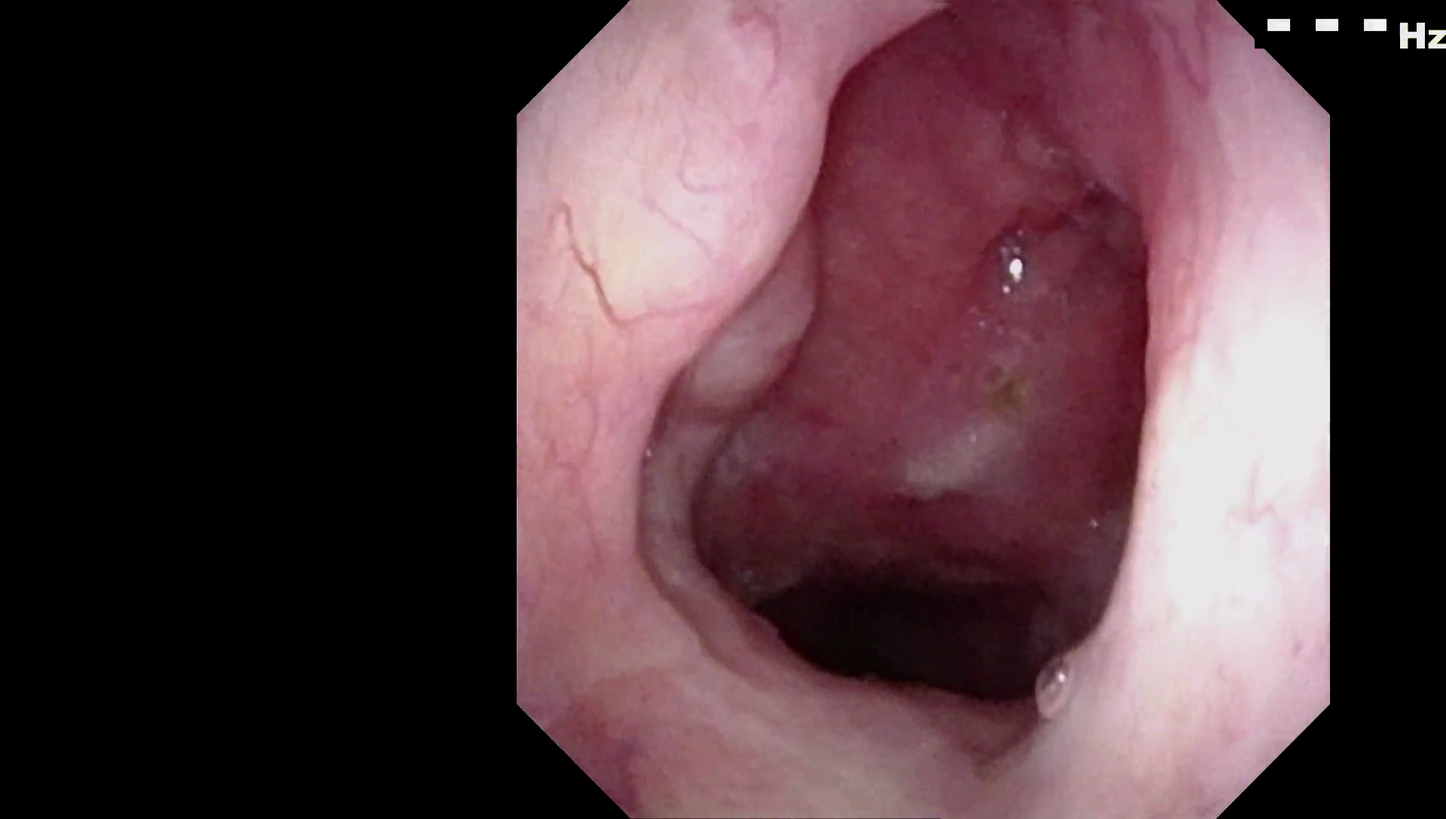next: (718, 514, 1084, 729)
